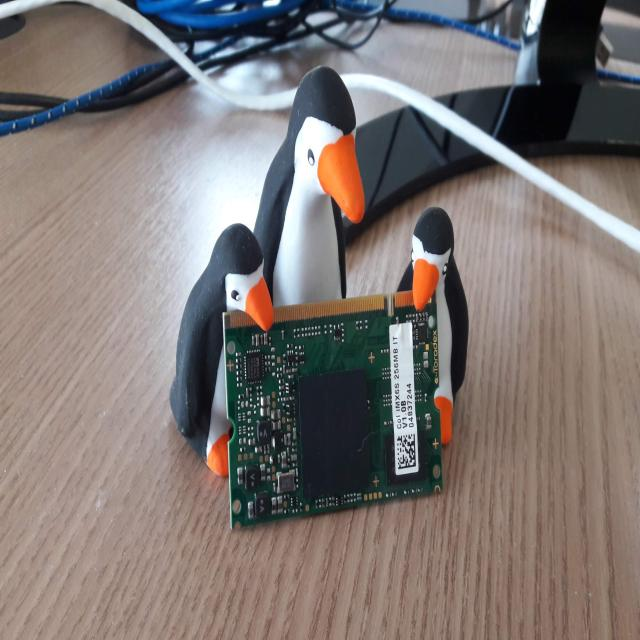som: (212, 284, 459, 534)
